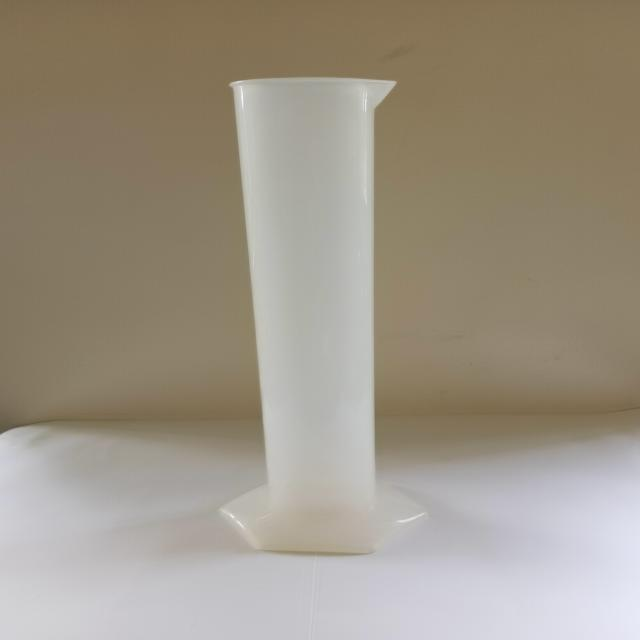graduated_cylinder: (209, 72, 439, 558)
